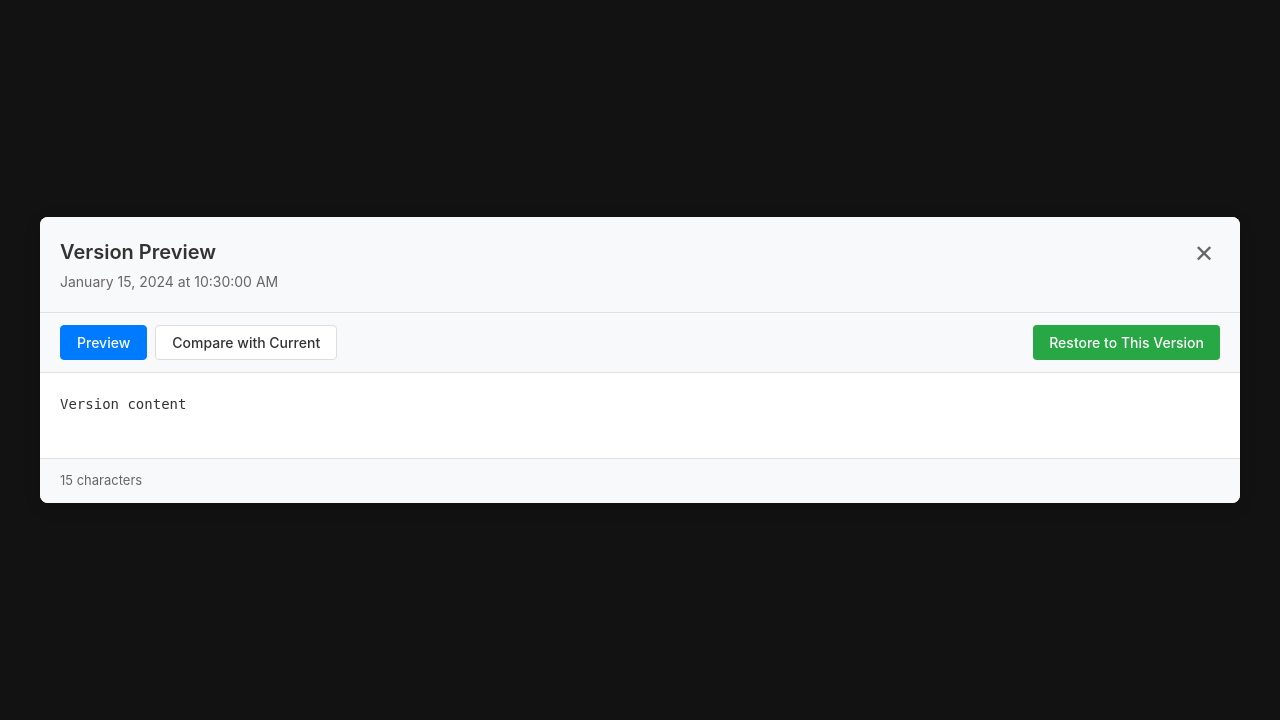
Scenario: VersionPreview › shows confirmation dialog when restore button is clicked
The image size is (1280, 720).
Click the button "Restore to This Version" at (1127, 343), box x1=1033 y1=325 x2=1220 y2=360
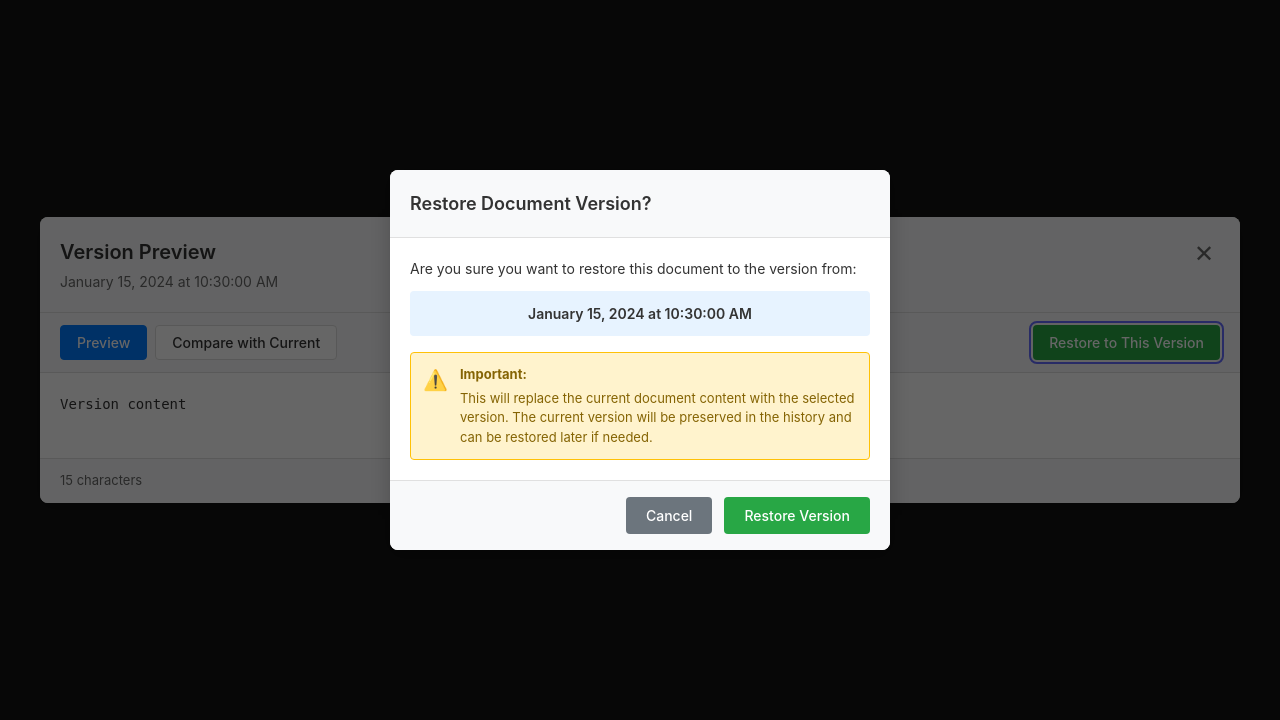
Result: the heading "Restore Document Version?" is shown at x1=410 y1=193 x2=652 y2=214
